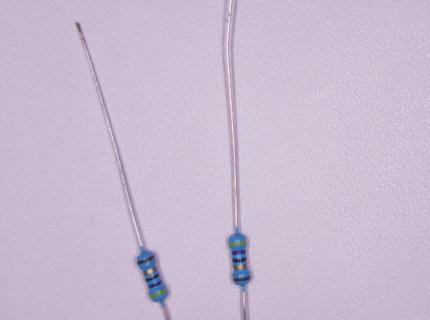Black band: (145, 273, 160, 282), (232, 257, 247, 262)
Brown band: (137, 254, 156, 265), (233, 275, 251, 282)
Gold band: (143, 265, 158, 276), (232, 264, 247, 270)
Violet band: (147, 279, 163, 289), (231, 249, 246, 255)
Yellow band: (148, 287, 168, 299), (229, 240, 247, 247)
